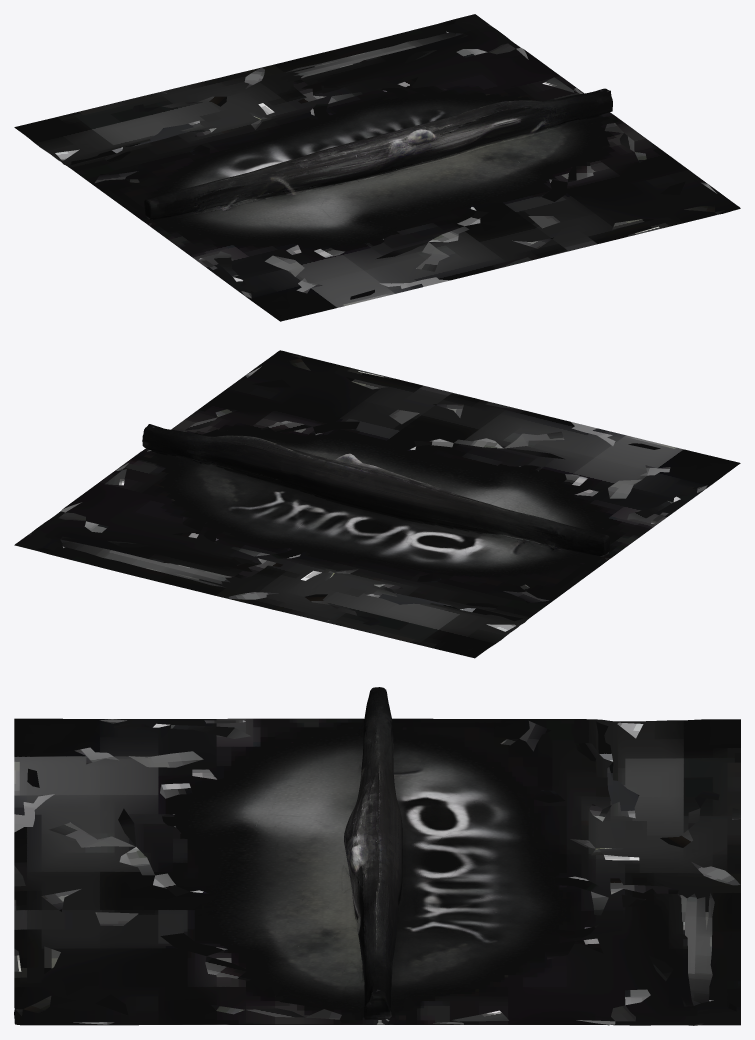
File: generated_model_1749254196.glb
The picture shows the model from 3 angles, top to bottom: view 1: azimuth 30°, elevation 25°; view 2: azimuth 150°, elevation 25°; view 3: azimuth 270°, elevation 25°; orthographic projection. The views are drawn at different scales.
Parts seen in each view (by area): view 1: world; view 2: world; view 3: world.
Boxes of the visible parts, x1,y1,x2,y2 form: world: [14, 14, 740, 321]; world: [14, 350, 740, 658]; world: [14, 687, 740, 1025].
Size of the model in its own units: 1 by 0.087 by 1.
Materials: 1 (1 with a texture image).
